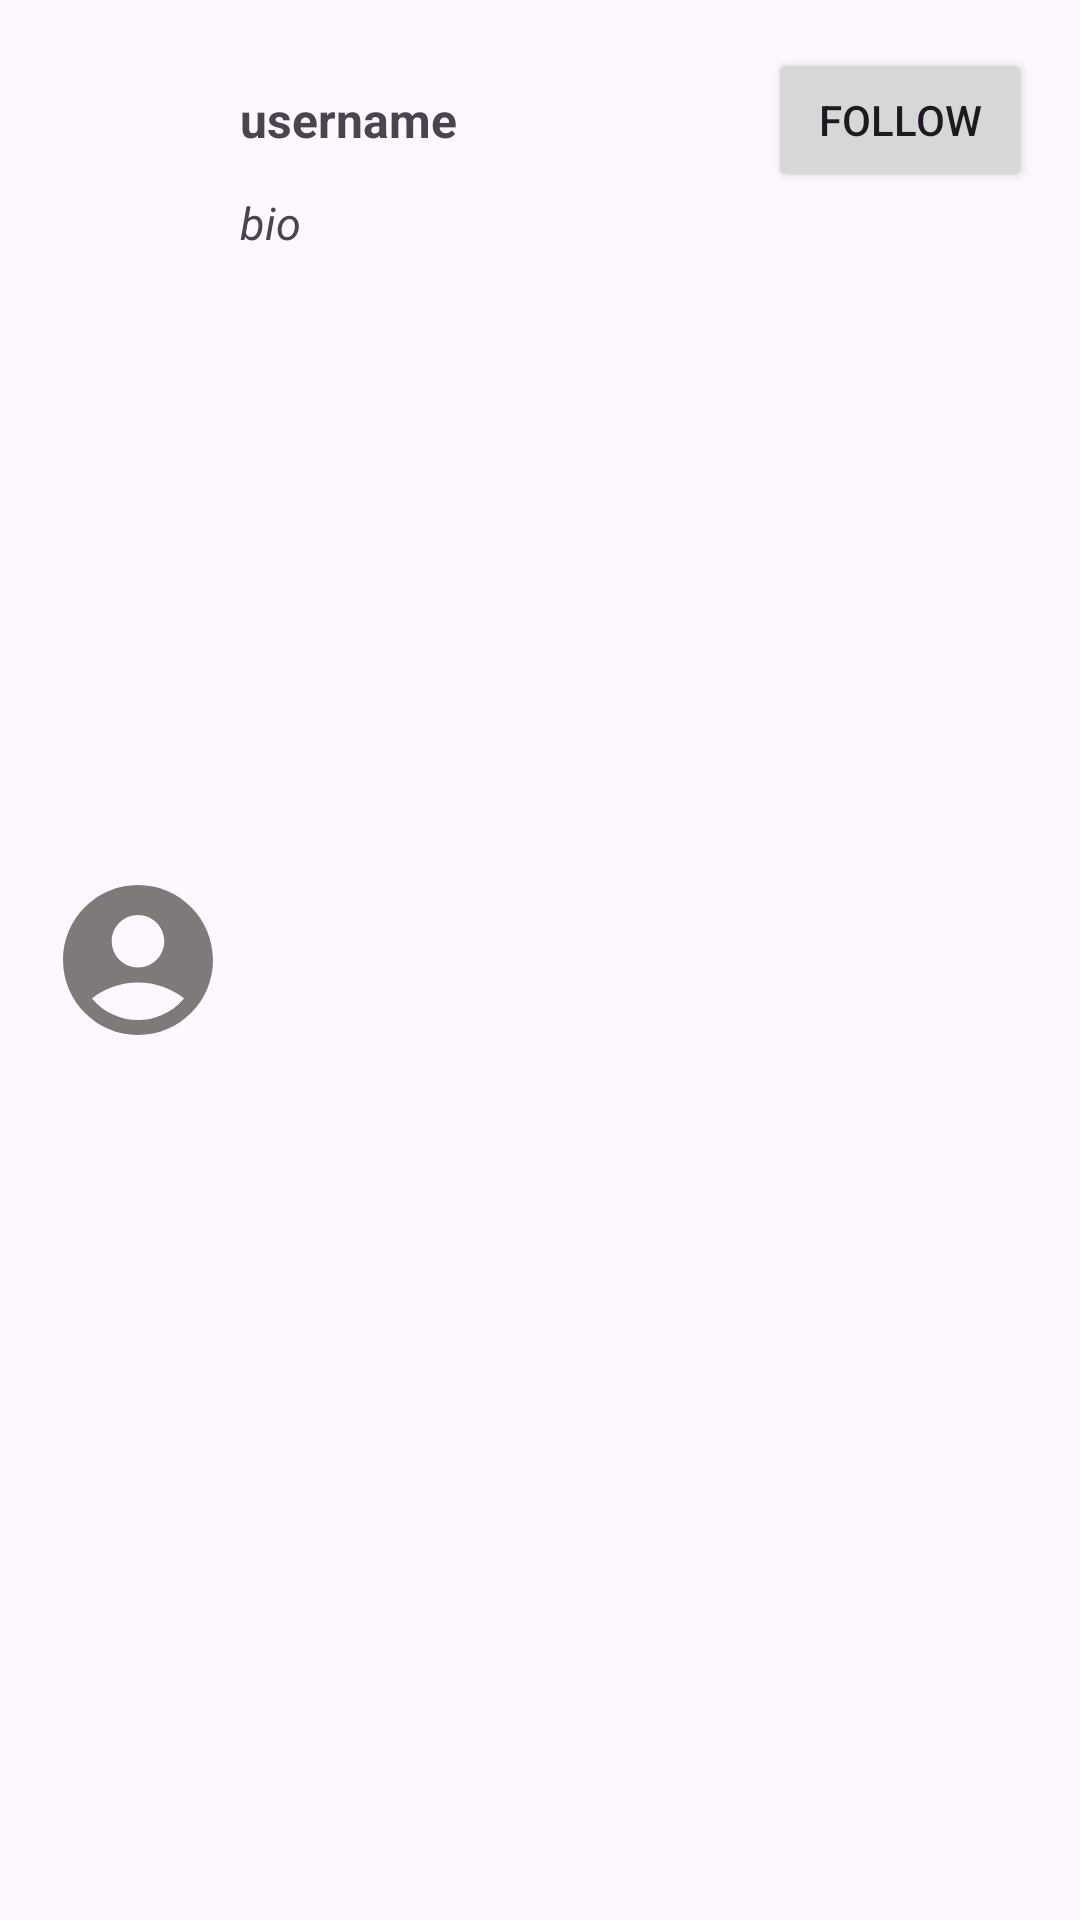

Icon bounding boxes for this 1080 × 1920 phone screenshot, format (x1, y1, x2, y2):
account circle: (63, 885, 213, 1035)
